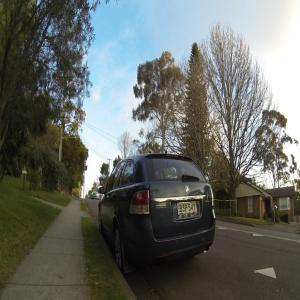Vehicle-registration-plate: (177, 201, 198, 217)
